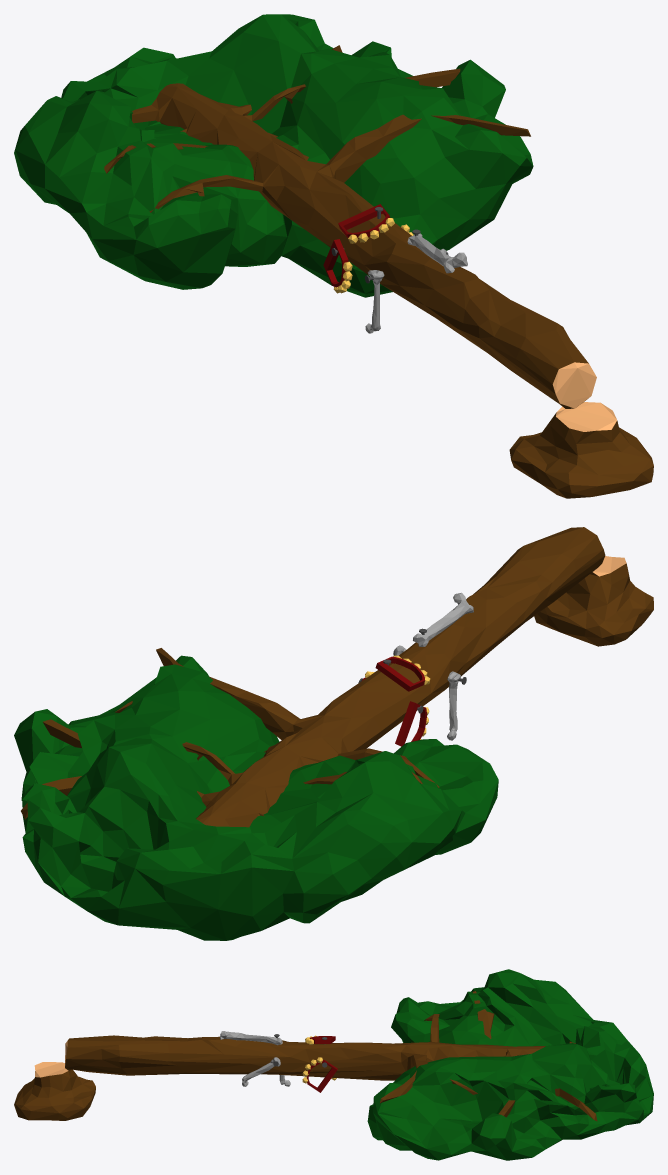
The model's file is pühapuu.fbx.
The picture shows the model from 3 angles, top to bottom: view 1: azimuth 30°, elevation 25°; view 2: azimuth 150°, elevation 25°; view 3: azimuth 270°, elevation 25°; orthographic projection. The views are drawn at different scales.
Parts seen in each view (by area): view 1: Cube; view 2: Cube; view 3: Cube.
Boxes of the visible parts, x1,y1,x2,y2 form: Cube: [14, 14, 653, 498]; Cube: [14, 527, 653, 940]; Cube: [14, 969, 653, 1160].
Bounding box in the file's own units: 2065 × 812 × 3918.
